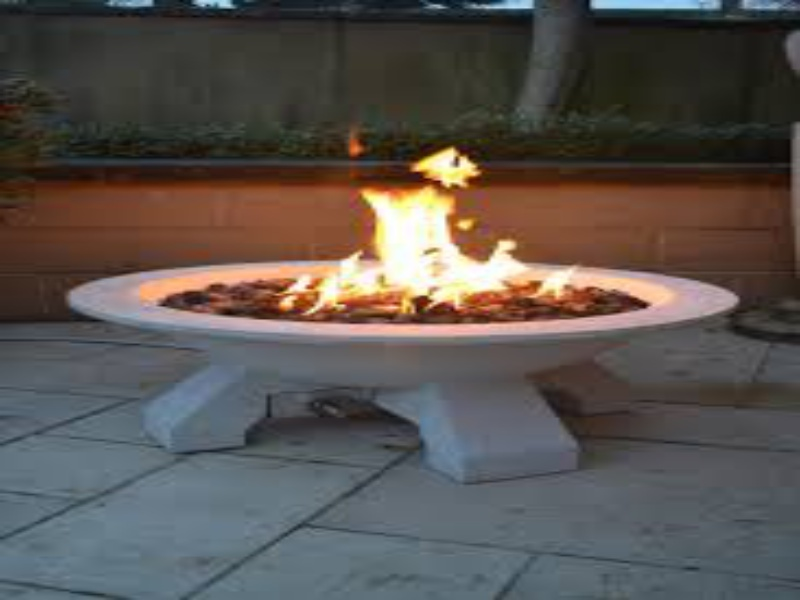fire: (356, 191, 463, 303), (410, 148, 490, 188), (488, 237, 522, 283), (461, 254, 487, 289), (316, 277, 343, 308), (343, 255, 358, 277)
